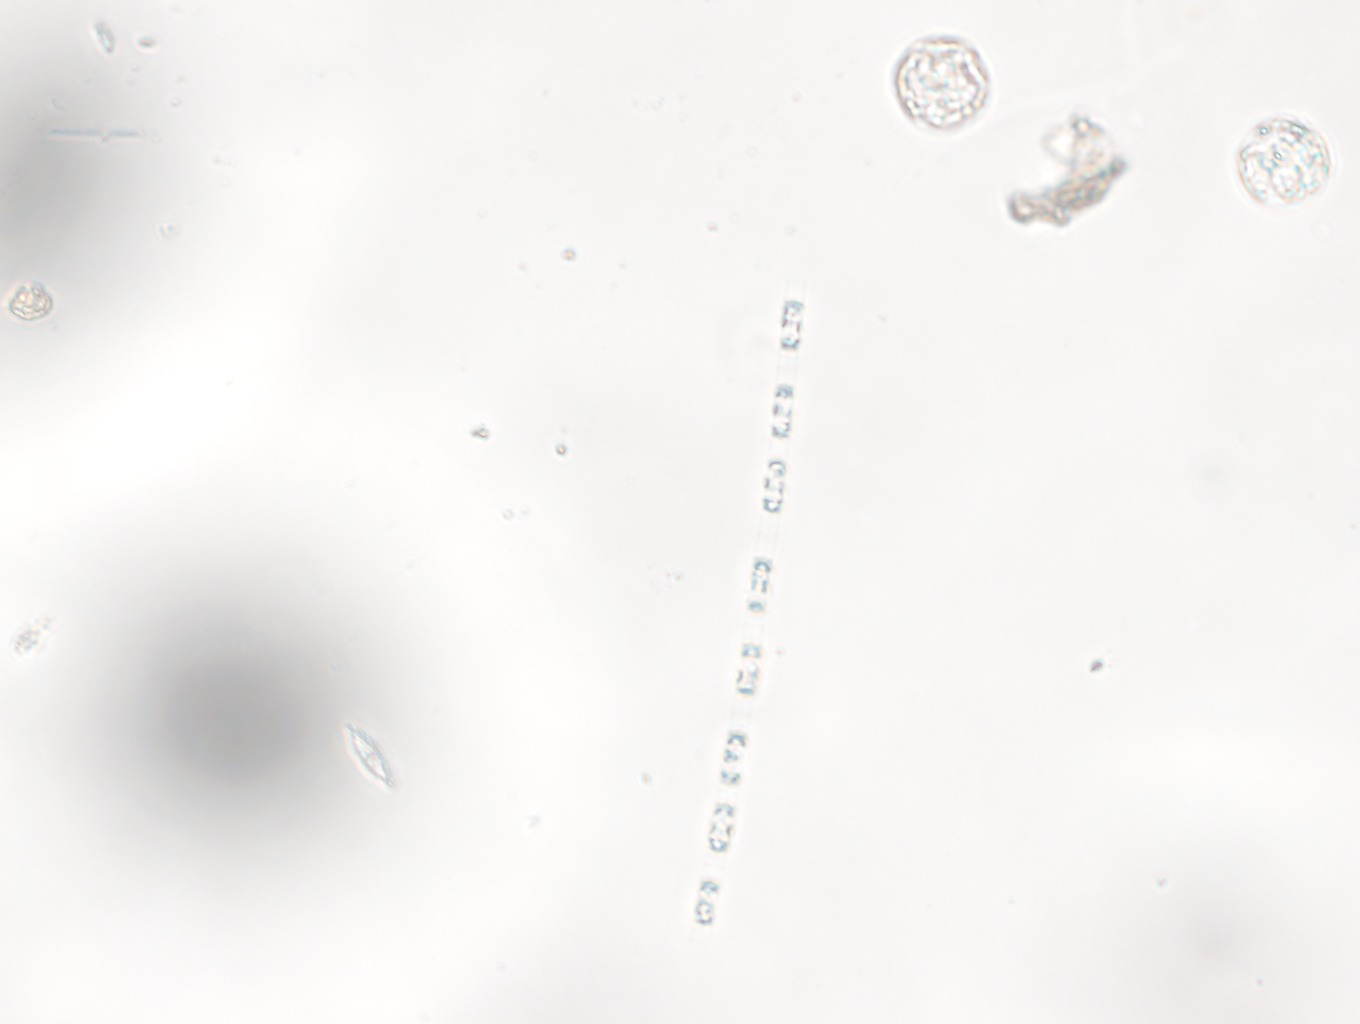skeletonema: (693, 299, 807, 925)
